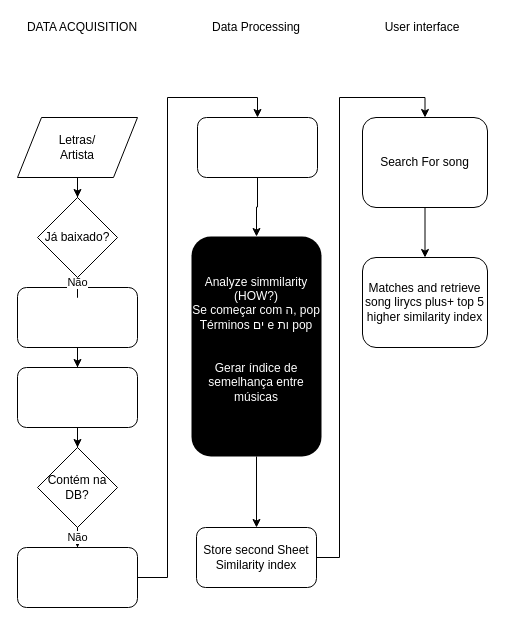
This 505x625 diagram has some shape labels left out. Here are the shapes that lost their labels. From the top down, the centre of each, then its label:
point (257, 147): Retrieve from DB
point (77, 317): Scrapping
point (77, 397): Parsing
point (77, 577): Storing DB
